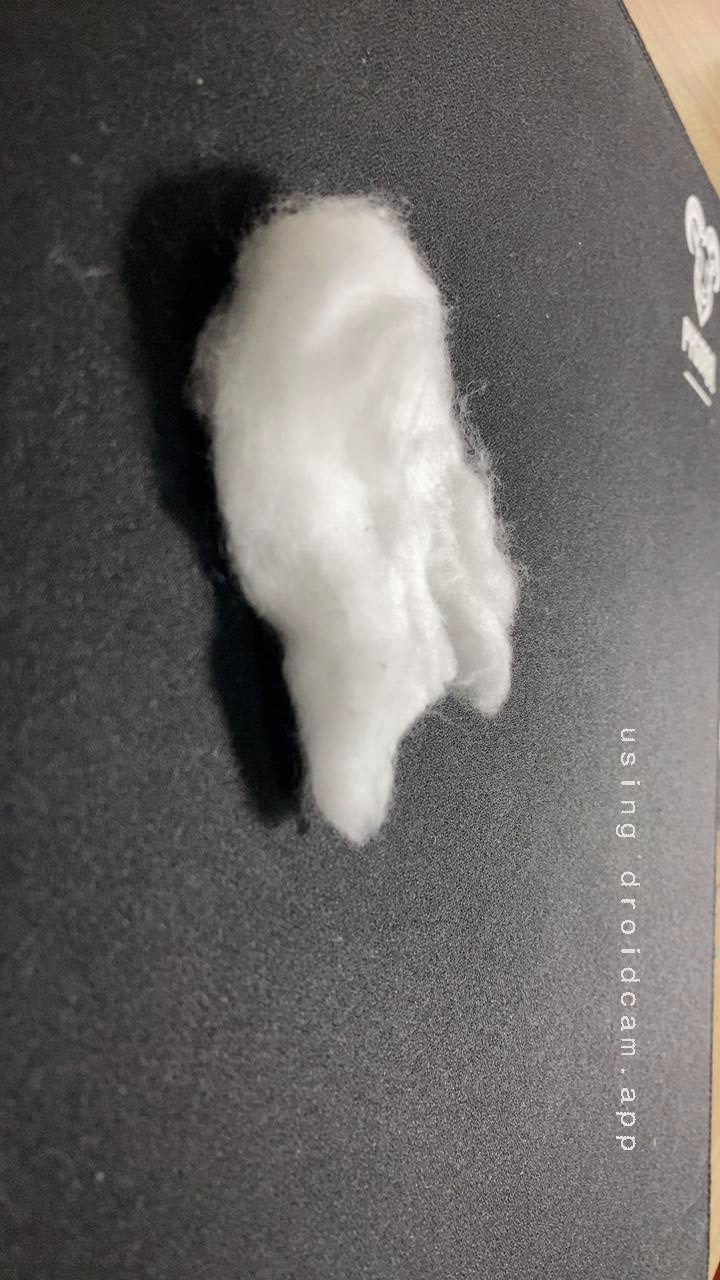cotton: (151, 162, 597, 876)
